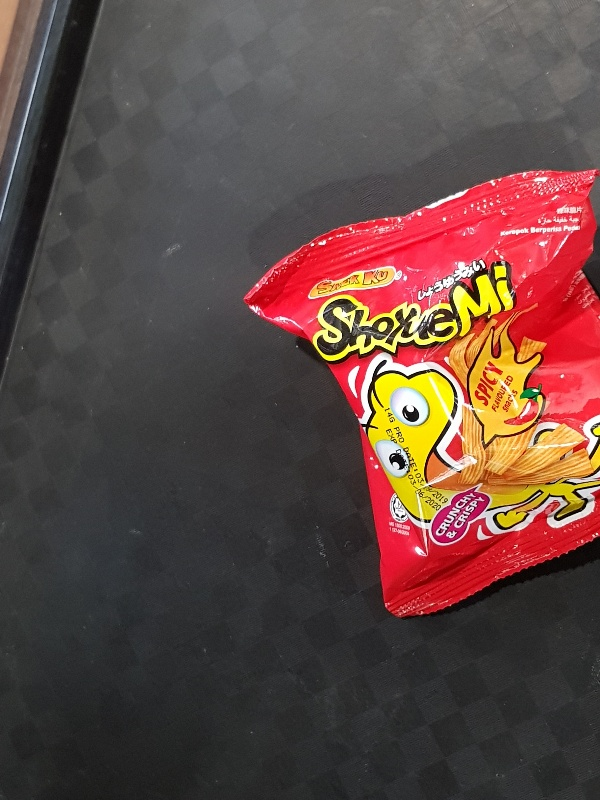ShoyueMi Spicy Flavoured Snacks: (243, 170, 600, 618)
